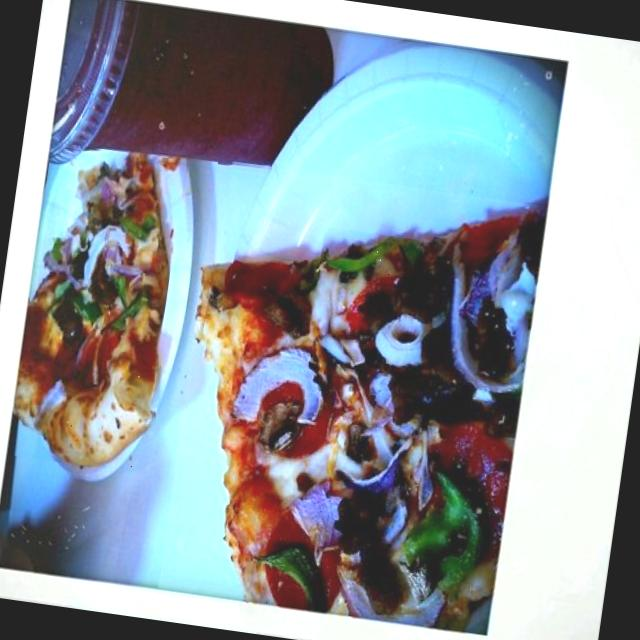Bell Pepper: (391, 462, 488, 608), (317, 227, 423, 290), (246, 537, 334, 612), (102, 268, 154, 338), (104, 197, 162, 250), (56, 280, 108, 328), (44, 230, 74, 276)
pizza: (196, 206, 544, 631), (14, 154, 169, 466)
